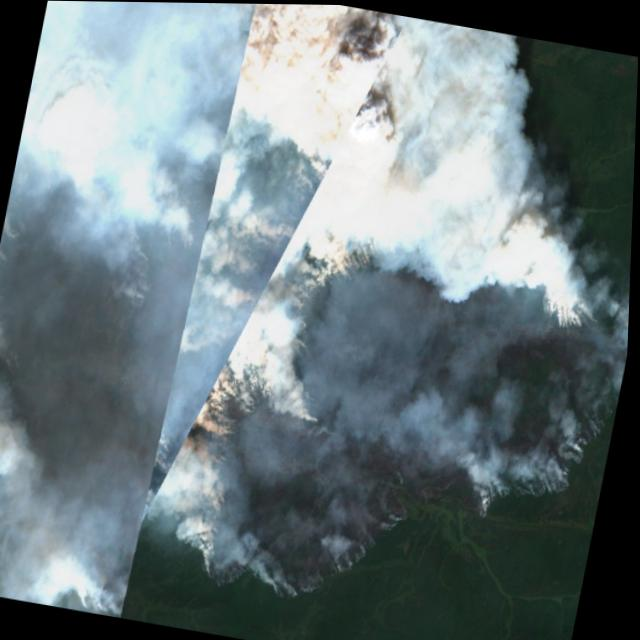fire: (196, 457, 424, 625), (468, 350, 626, 538), (286, 217, 390, 313), (251, 356, 338, 435), (195, 364, 259, 451), (533, 278, 608, 339)
